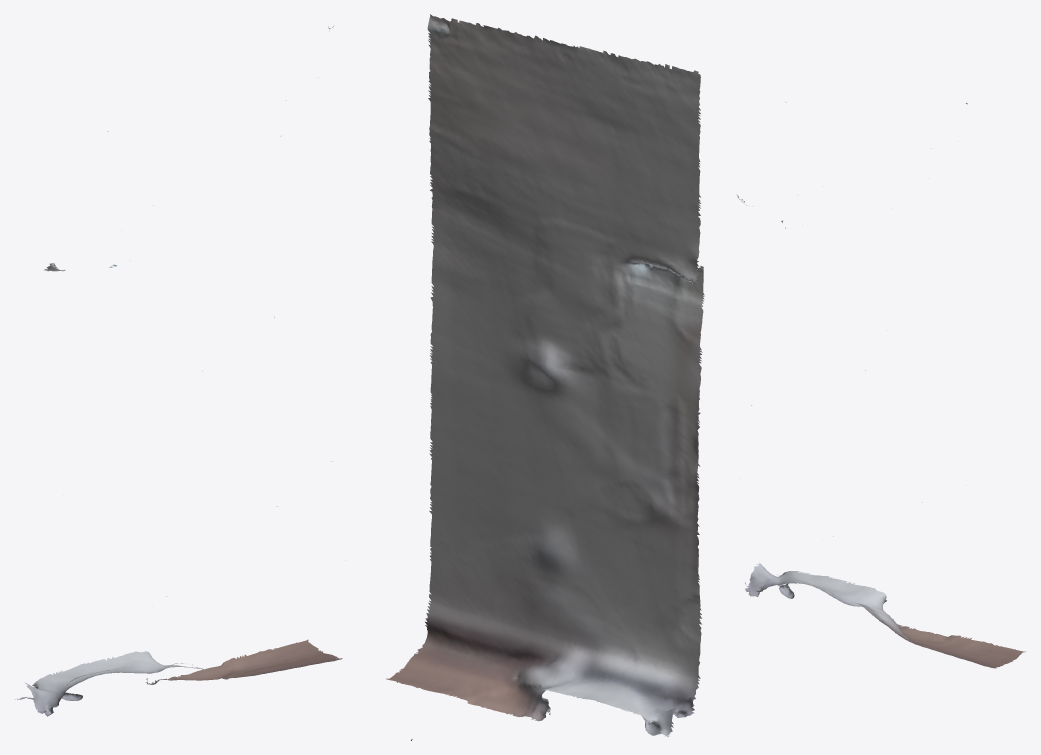
Rendered from apartment-full-47-6ebf34c58de9.glb.
3 views of the same model, side by side, from view 1: azimuth 30°, elevation 25°; view 2: azimuth 150°, elevation 25°; view 3: azimuth 330°, elevation 25° (orthographic). The views are drawn at different scales.
Size of the model in its own units: 0.841 by 2.06 by 0.24.
